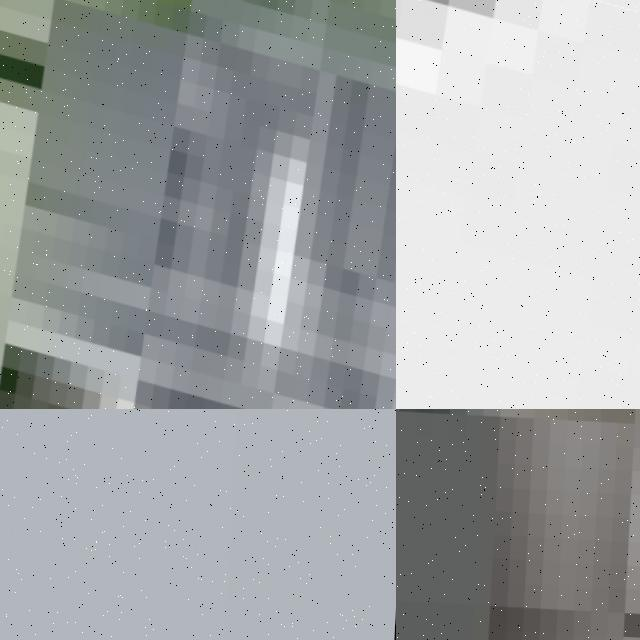0: (0, 0, 396, 409)
drone: (396, 0, 640, 409)
